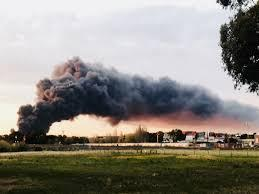smoke: (8, 52, 259, 146)
